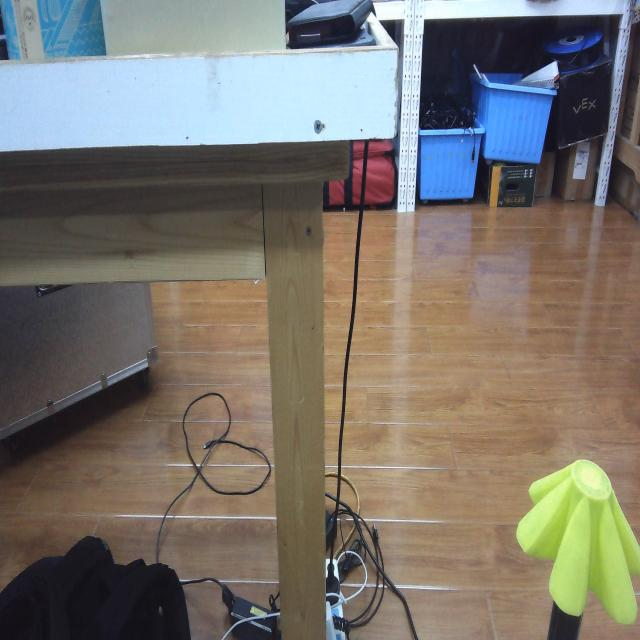Yellow-Stake-Head: (516, 459, 640, 625)
